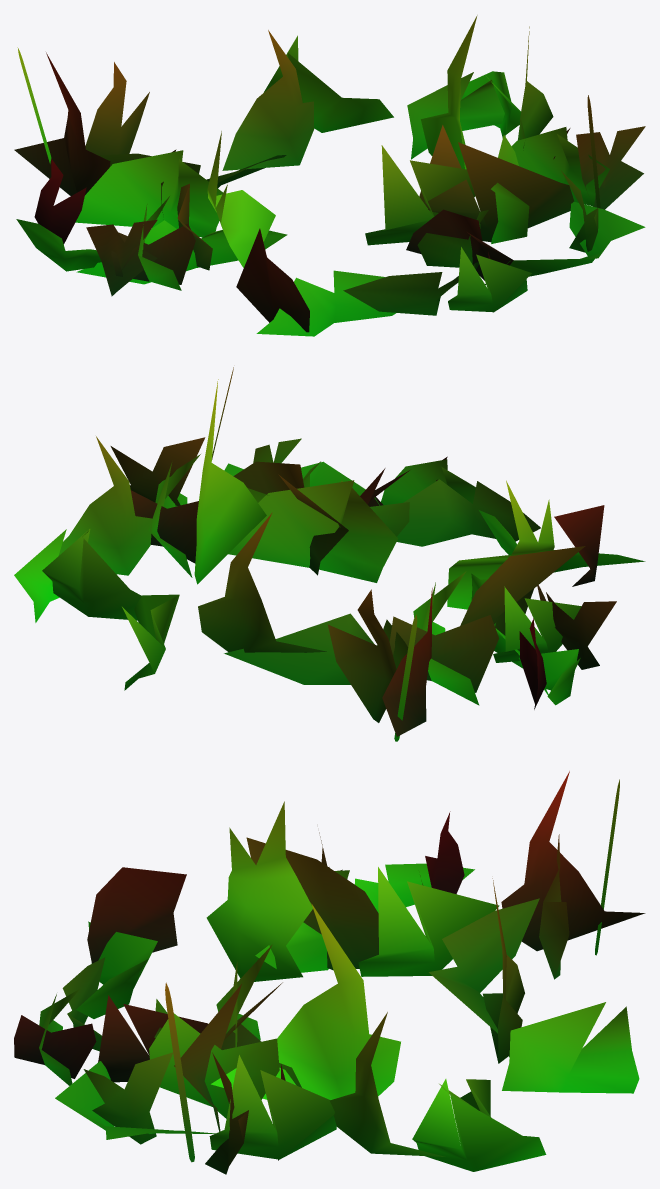
The model's file is SM_OW_GrassLawn_a_LOD1.fbx.
3 renders of one model, top to bottom at view 1: azimuth 30°, elevation 25°; view 2: azimuth 150°, elevation 25°; view 3: azimuth 270°, elevation 25°, orthographic. The views are drawn at different scales.
Parts seen in each view (by area): view 1: SM_OW_GrassLawn_a_LOD1; view 2: SM_OW_GrassLawn_a_LOD1; view 3: SM_OW_GrassLawn_a_LOD1.
Boxes of the visible parts, x1,y1,x2,y2 form: SM_OW_GrassLawn_a_LOD1: (14, 15, 645, 336); SM_OW_GrassLawn_a_LOD1: (14, 367, 645, 741); SM_OW_GrassLawn_a_LOD1: (14, 771, 645, 1174).
Size of the model in its own units: 0.6469 by 0.2362 by 0.583.
